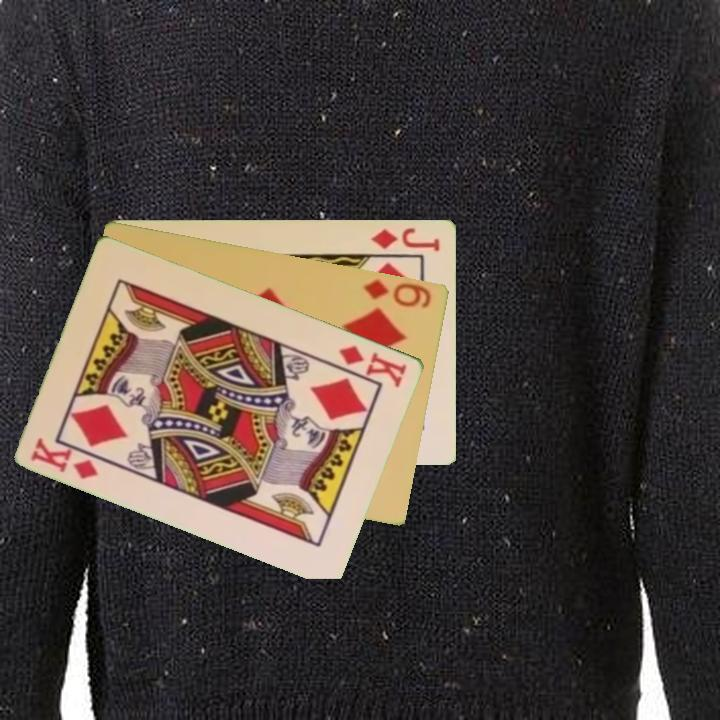6d: (360, 275, 435, 311)
Jd: (368, 223, 443, 253)
Kd: (335, 341, 410, 390), (28, 433, 102, 482)
